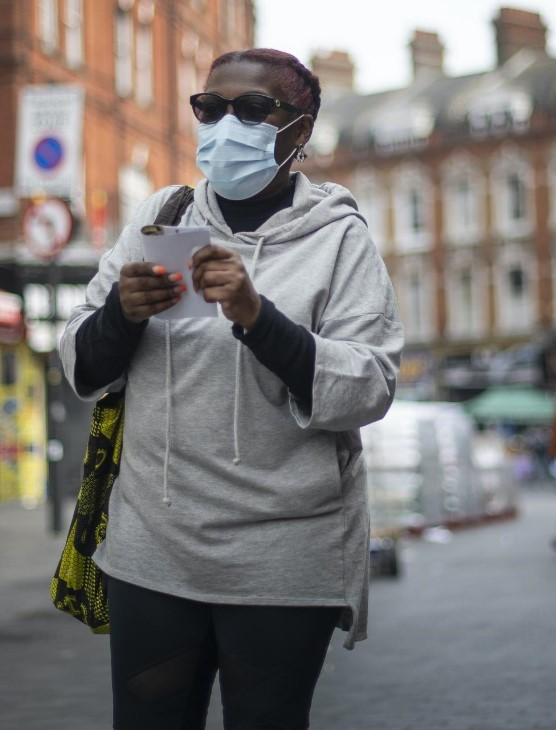face_with_mask: (189, 45, 318, 214)
